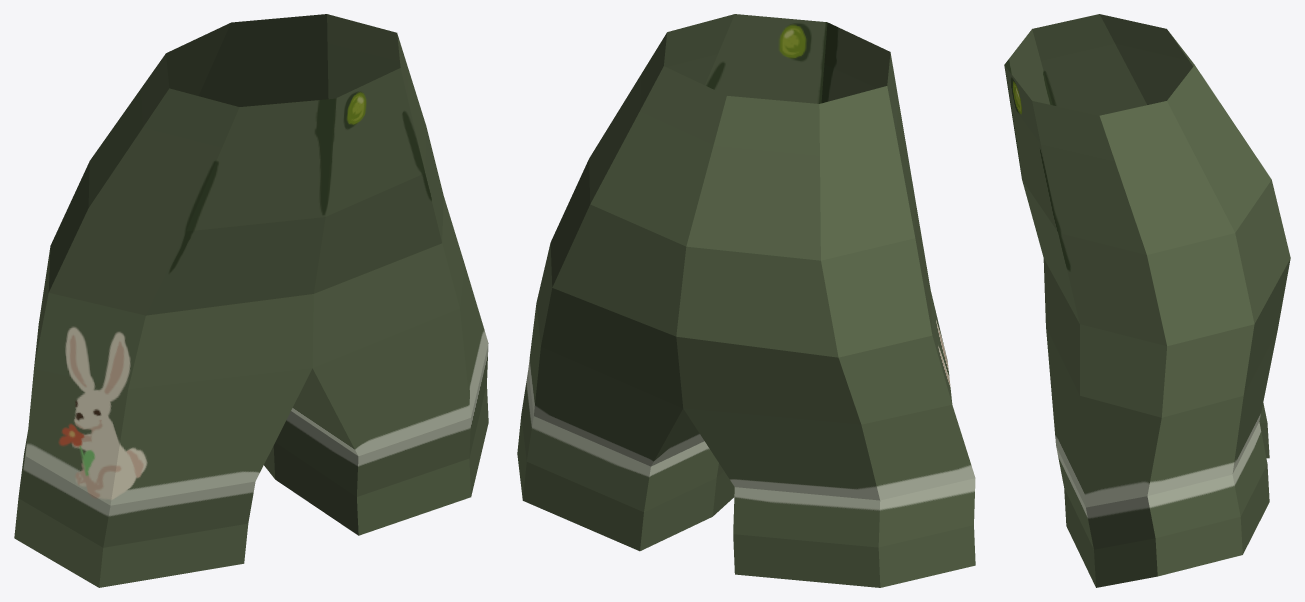
The model's file is RabbitShorts.fbx.
The picture shows the model from 3 angles, left to right: view 1: azimuth 30°, elevation 25°; view 2: azimuth 150°, elevation 25°; view 3: azimuth 270°, elevation 25°; orthographic projection. The views are drawn at different scales.
Visible parts, largest first — view 1: ShortShortsGreen; view 2: ShortShortsGreen; view 3: ShortShortsGreen.
Boxes of the visible parts, x1,y1,x2,y2 form: ShortShortsGreen: (14, 14, 488, 587); ShortShortsGreen: (517, 14, 975, 587); ShortShortsGreen: (1004, 14, 1290, 587).
Size of the model in its own units: 101 by 97.71 by 57.65.
